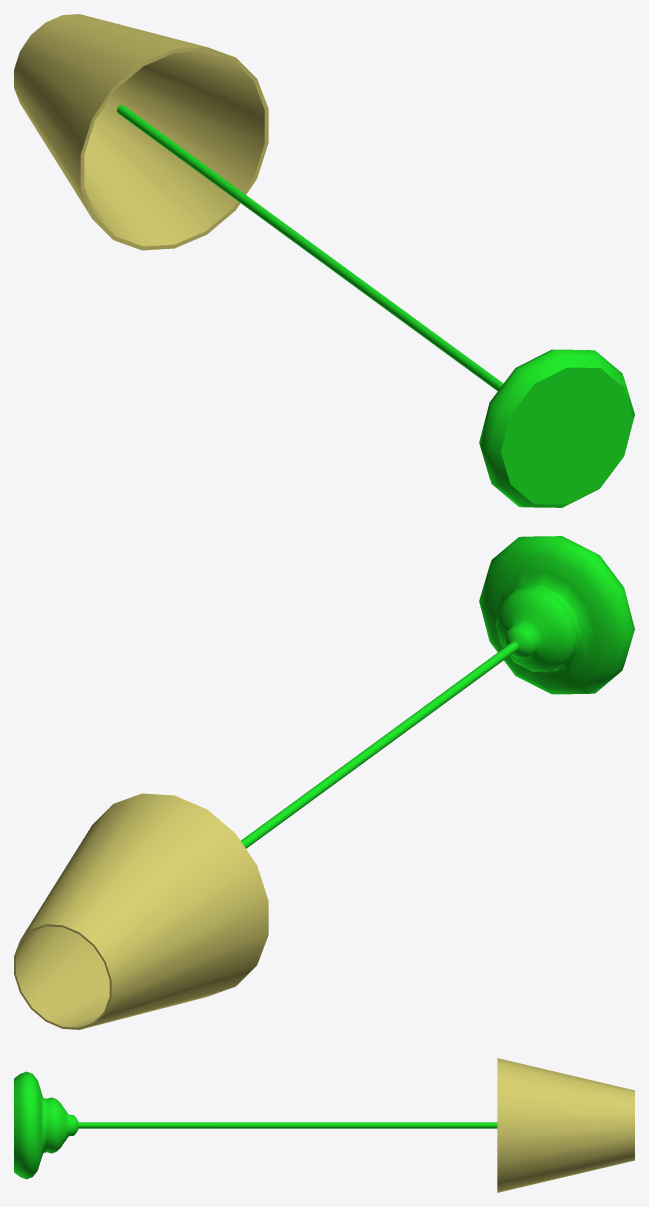
Rendered from torchere_4.FBX.
3 views of the same model, one above another, from view 1: azimuth 30°, elevation 25°; view 2: azimuth 150°, elevation 25°; view 3: azimuth 270°, elevation 25° (orthographic). The views are drawn at different scales.
Visible parts, largest first — view 1: plafond.001; view 2: plafond.001; view 3: plafond.001.
Part boxes in pixels (x1=…): plafond.001: x1=14, y1=14, x2=634, y2=507; plafond.001: x1=14, y1=536, x2=634, y2=1029; plafond.001: x1=14, y1=1058, x2=634, y2=1192.
Size of the model in its own units: 33.32 by 33.83 by 155.
